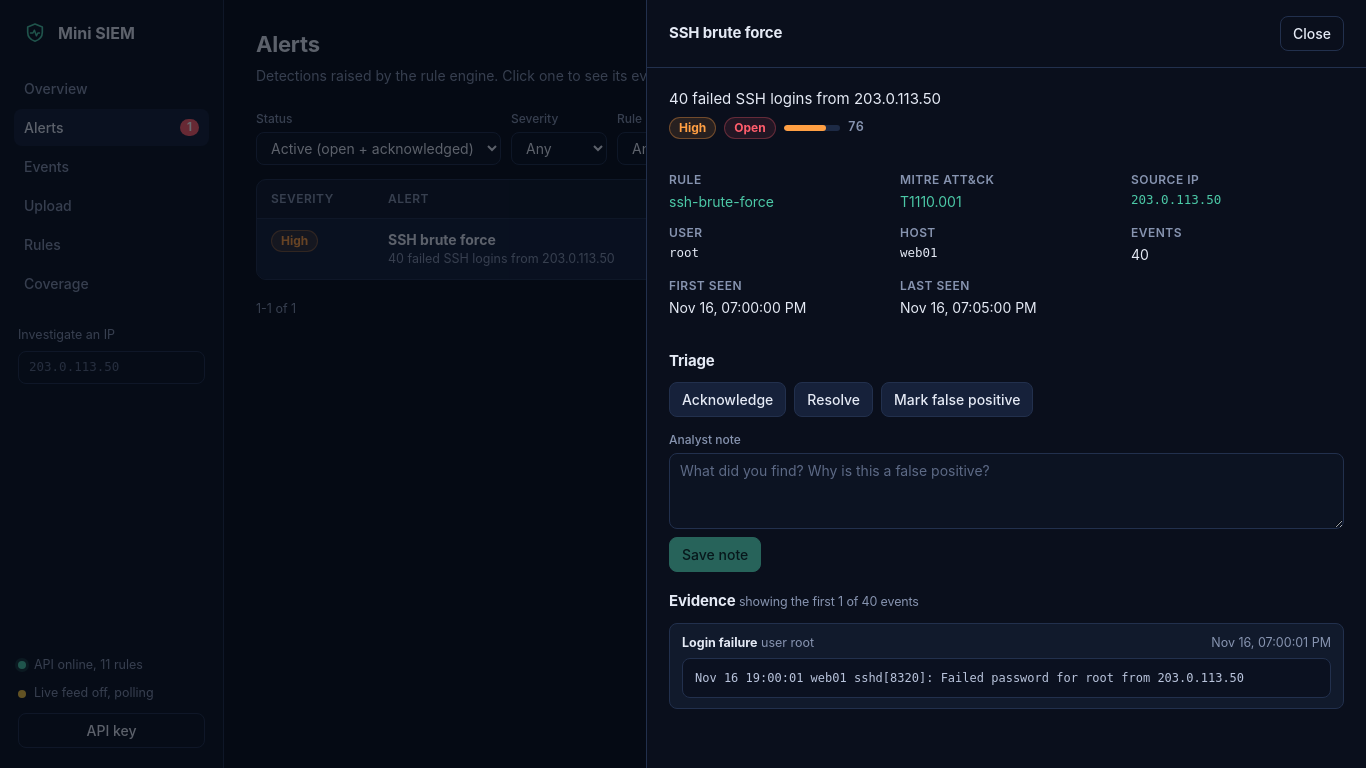
Test: Alerts › reports a failed triage instead of failing silently
The width and height of the screenshot is (1366, 768).
Click the button "Resolve". click: (834, 400)
box: x1=794 y1=382 x2=873 y2=417
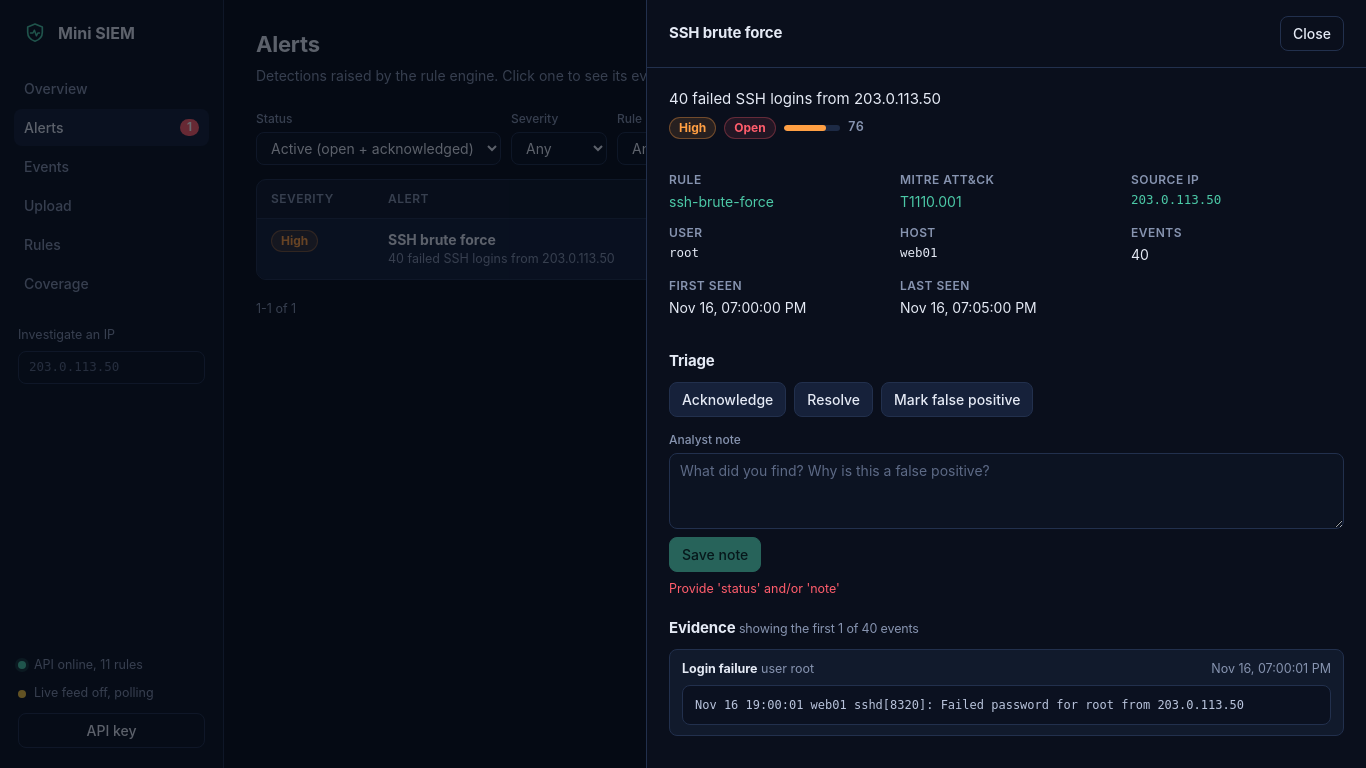
expect the text "Provide 'status' and/or 'note'" is shown: met, box x1=669 y1=581 x2=840 y2=596
